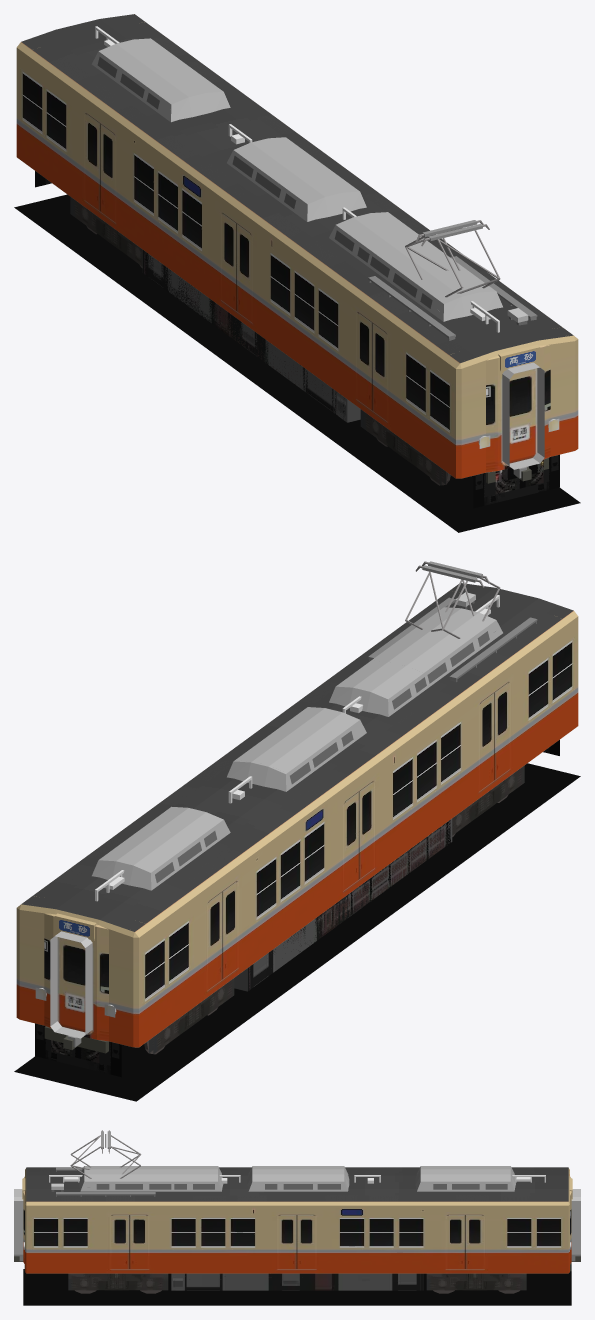
File: keisei3300.glb
3 views of the same model, one above another, from view 1: azimuth 30°, elevation 25°; view 2: azimuth 150°, elevation 25°; view 3: azimuth 270°, elevation 25° (orthographic). The views are drawn at different scales.
Parts seen in each view (by area): view 1: car1, car0, car2; view 2: car1, car0, car2; view 3: car1, car0, car2.
Part boxes in pixels (x1,y1,x2,y2): car1: [15, 14, 578, 531]; car0: [22, 15, 580, 532]; car2: [14, 22, 571, 480]; car1: [15, 561, 578, 1100]; car0: [23, 591, 580, 1051]; car2: [14, 584, 572, 1101]; car1: [14, 1130, 580, 1305]; car0: [19, 1166, 579, 1305]; car2: [15, 1166, 575, 1305].
Bounding box in the file's own units: 2.8 × 5.24 × 18.2.
Materials: 17 (16 with a texture image).
